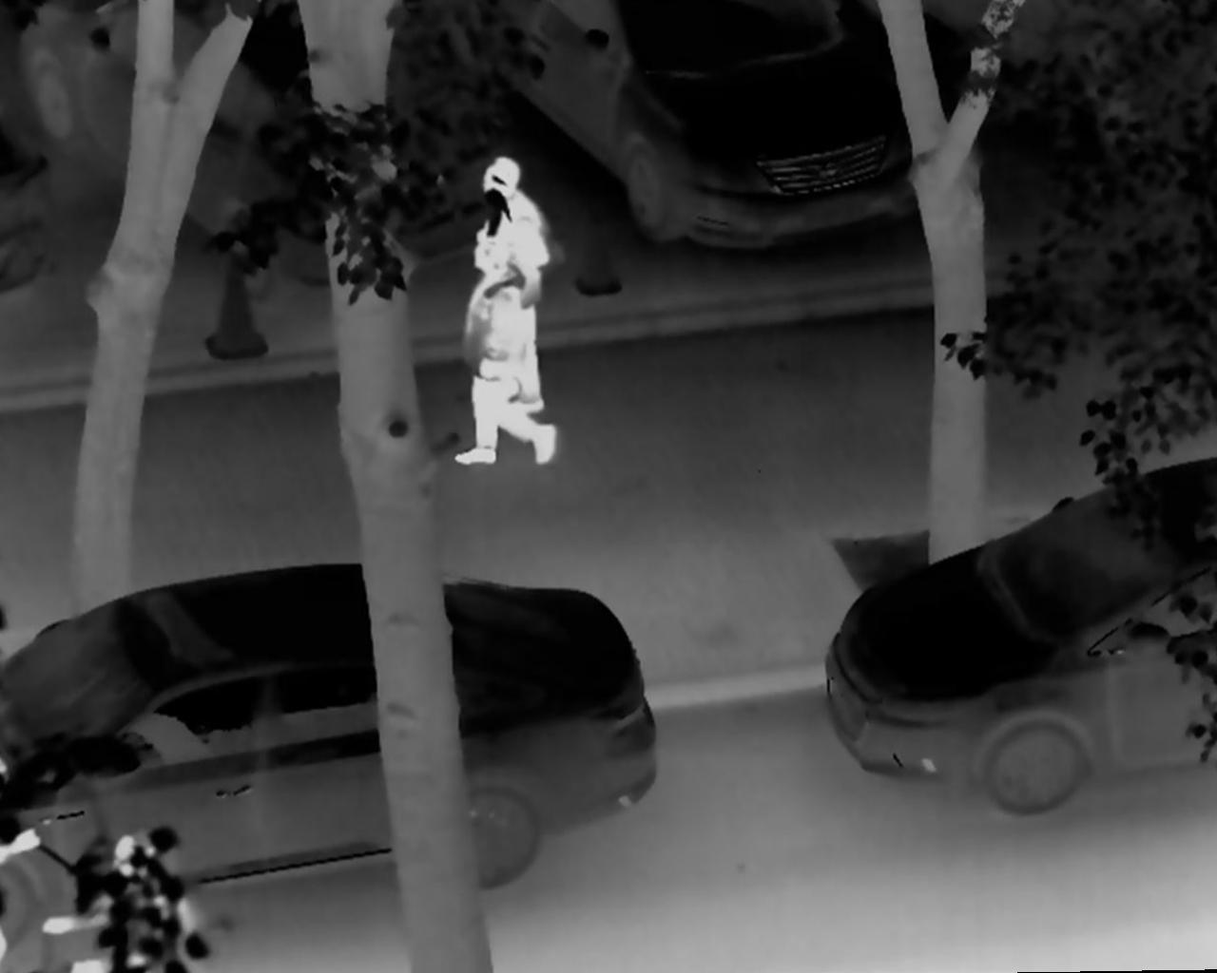person: (456, 150, 552, 422), (450, 238, 563, 468), (38, 828, 202, 973)
